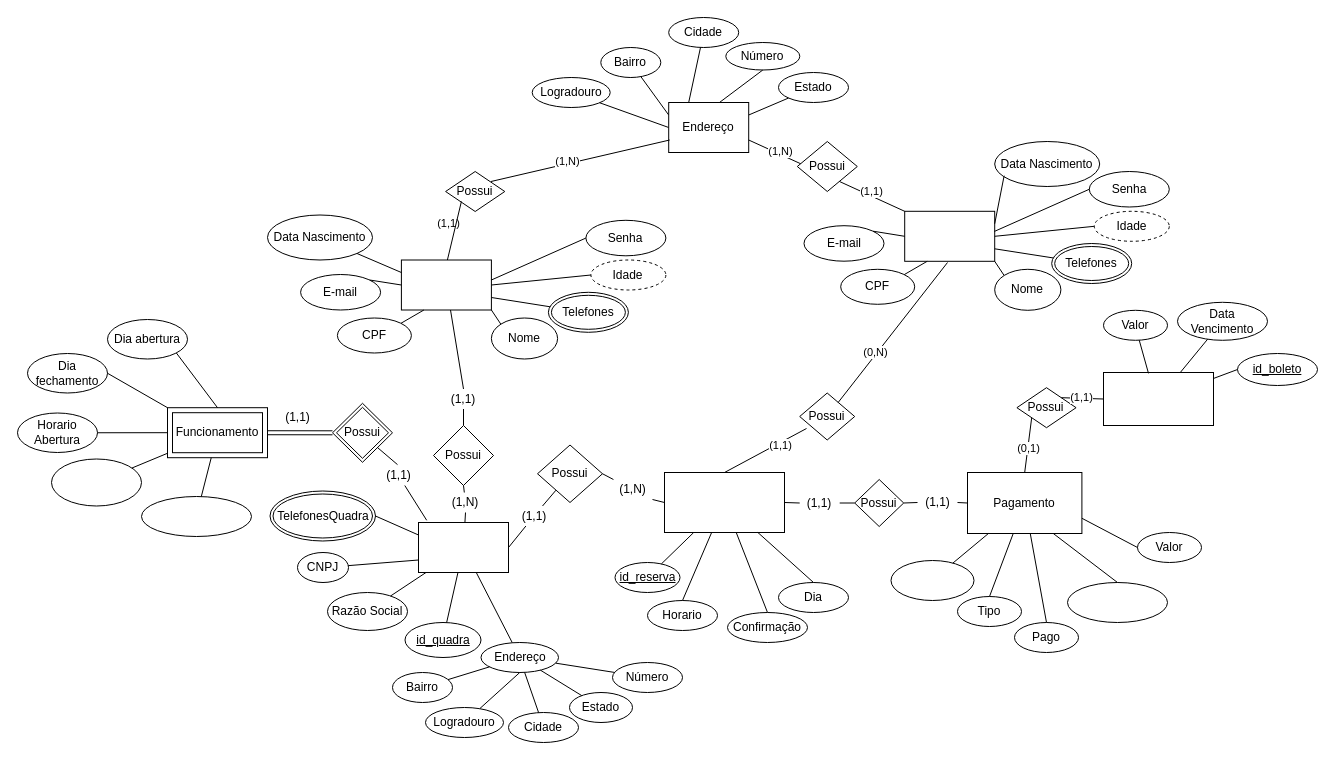
This 1335x760 diagram has some shape labels left out. Each missing label, with the centre of its shape:
"Boleto" belongs at (1158,399).
"Cliente" belongs at (949,235).
"Data Pagamento" belongs at (1117,602).
"Gestor" belongs at (445,284).
"Horario Fechamento" belongs at (96,482).
"id_funcionamento" belongs at (196,516).
"id_pagamento" belongs at (932,580).
"Quadras" belongs at (463,547).
"Reserva" belongs at (724,502).
